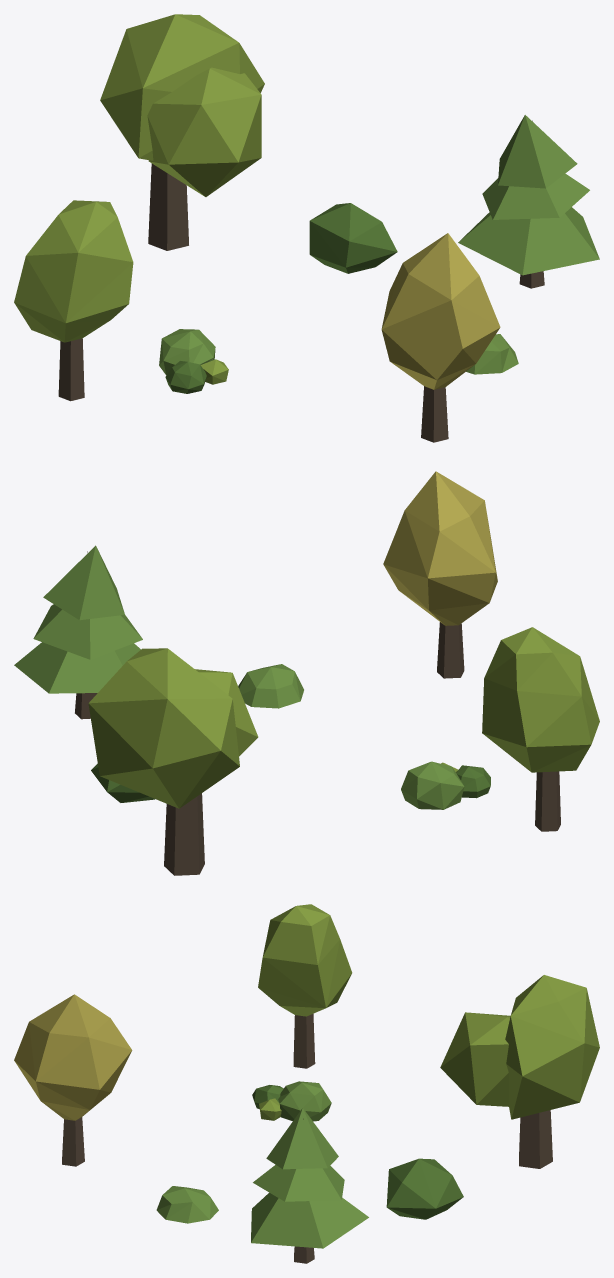
Rendered from trees.gltf.
3 views of the same model, one above another, from view 1: azimuth 30°, elevation 25°; view 2: azimuth 150°, elevation 25°; view 3: azimuth 270°, elevation 25° (orthographic). The views are drawn at different scales.
Visible parts, largest first — view 1: Tree1, Tree4, Tree2, Tree3, Bush1, Bush2, Bush3; view 2: Tree1, Tree4, Tree2, Tree3, Bush2, Bush3, Bush1; view 3: Tree1, Tree2, Tree3, Tree4, Bush1, Bush2, Bush3.
Part boxes in pixels (x1,y1,x2,y2): Tree1: (100, 14, 264, 250); Tree4: (14, 200, 133, 401); Tree2: (381, 233, 500, 442); Tree3: (458, 115, 599, 288); Bush1: (309, 203, 397, 273); Bush2: (159, 329, 228, 393); Bush3: (466, 334, 518, 374); Tree1: (88, 648, 258, 875); Tree4: (482, 627, 599, 831); Tree2: (383, 471, 497, 678); Tree3: (14, 545, 142, 719); Bush2: (401, 761, 490, 809); Bush3: (238, 664, 303, 708); Bush1: (91, 763, 154, 802); Tree1: (440, 975, 599, 1168); Tree2: (14, 994, 132, 1166); Tree3: (251, 1108, 368, 1263); Tree4: (258, 904, 352, 1068); Bush1: (386, 1158, 463, 1219); Bush2: (252, 1081, 331, 1121); Bush3: (156, 1186, 218, 1223).
Bounding box in the file's own units: 9.96 × 3.68 × 10.15.
7 materials, 7 textured.
